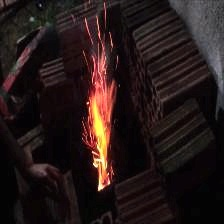fire: (68, 17, 133, 201)
